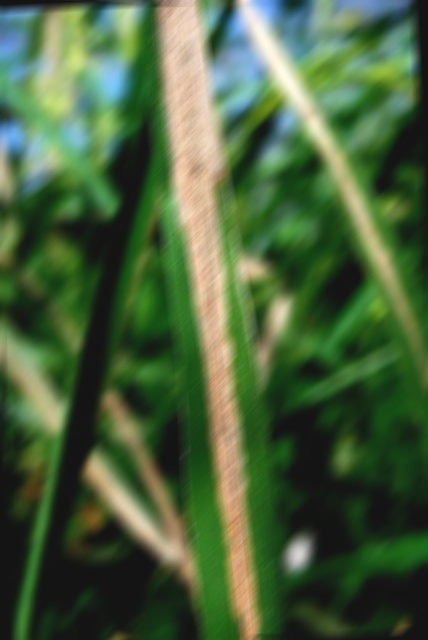Leaf_Blast: (196, 3, 242, 638)
